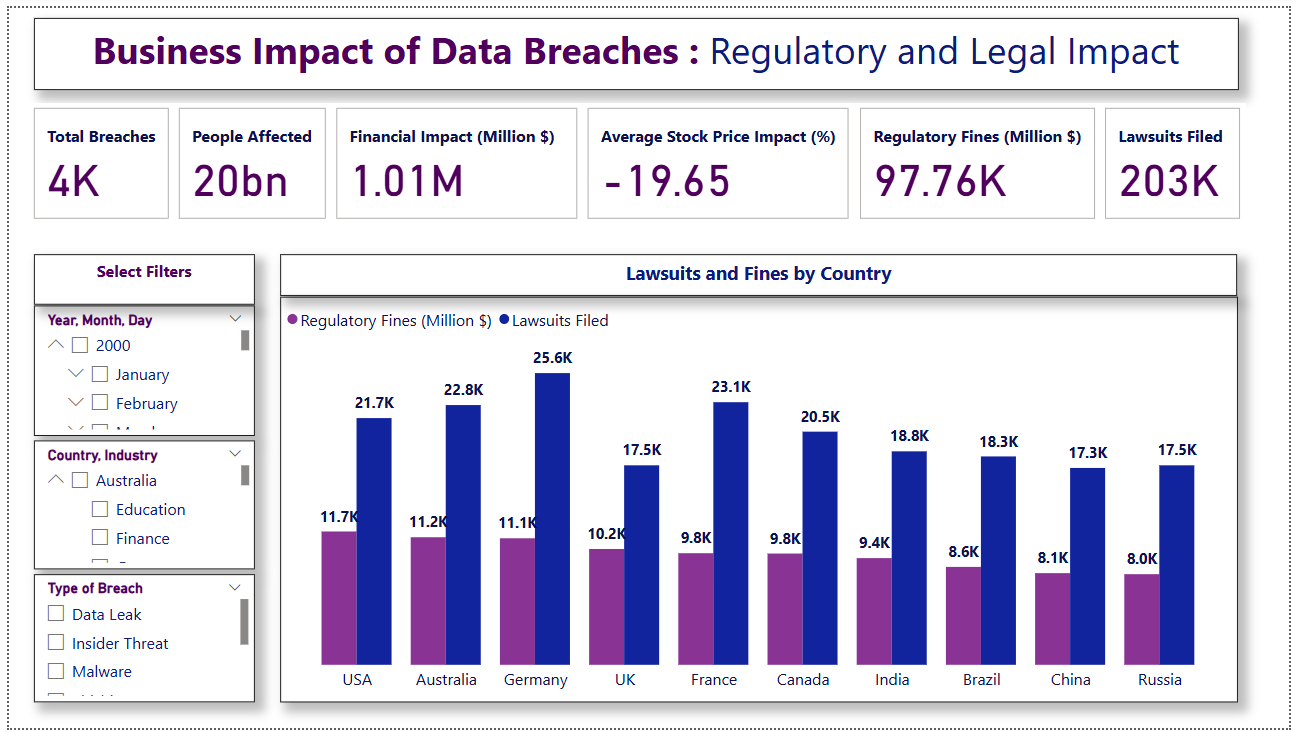

Layout of this report page (visuals, bound fields, positions):
{"tool":"powerbi","page":{"name":"Regulatory & Legal Impact","canvas":[1280,720],"ordinal":3},"visuals":[{"type":"group","id":"g1","title":"Group 1","box":[271.5,245.8,957.5,447.6],"z":0},{"type":"textbox","box":[271.6,245.8,956.9,41.9],"z":0,"group":"g1"},{"type":"group","id":"g2","title":"Group 8","box":[24.5,296.6,221.1,396.7],"z":0,"group":"g3"},{"type":"group","id":"g3","title":"Group 9","box":[24.5,245.8,220.1,447.6],"z":1000},{"type":"textbox","box":[24.5,245.8,220.6,50.8],"z":1000,"group":"g3"},{"type":"textbox","box":[24.5,9.8,1204.5,72.1],"z":2000},{"type":"clusteredColumnChart","fields":{"Y":["Sum(Sheet1.Regulatory Fines (Million $))","Sum(Sheet1.Lawsuits Filed)"],"Category":["Sheet1.Country"]},"box":[271.5,287.9,957.5,405.4],"z":2000,"group":"g1"},{"type":"group","id":"g4","title":"Group 7","box":[20.6,95.5,1216.7,122],"z":3000},{"type":"slicer","fields":{"Values":["Sheet1.Date of Breach.Variation.Date Hierarchy.Year","Sheet1.Date of Breach.Variation.Date Hierarchy.Month","Sheet1.Date of Breach.Variation.Date Hierarchy.Day"]},"box":[24.5,296.6,221.1,130.2],"z":3000,"group":"g2"},{"type":"slicer","fields":{"Values":["Sheet1.Country","Sheet1.Industry"]},"box":[24.5,431,220.7,128.8],"z":4000,"group":"g2"},{"type":"slicer","fields":{"Values":["Sheet1.Type of Breach"]},"box":[24.8,565.6,220.6,127.7],"z":5000,"group":"g2"},{"type":"cardVisual","fields":{"Data":["Avg(Sheet1.Stock Price Impact (%))"]},"box":[574.6,95.5,271.8,122],"z":6000,"group":"g4"},{"type":"cardVisual","fields":{"Data":["Sheet1.Total Breaches"]},"box":[20.6,95.5,145.5,122],"z":7000,"group":"g4"},{"type":"cardVisual","fields":{"Data":["Sum(Sheet1.Regulatory Fines (Million $))"]},"box":[846.4,95.5,245.4,122],"z":8000,"group":"g4"},{"type":"cardVisual","fields":{"Data":["Sum(Sheet1.Lawsuits Filed)"]},"box":[1091.8,95.5,145.5,122],"z":9000,"group":"g4"},{"type":"cardVisual","fields":{"Data":["Sum(Sheet1.People Affected)"]},"box":[166.1,95.5,157.2,122],"z":10000,"group":"g4"},{"type":"cardVisual","fields":{"Data":["Sum(Sheet1.Financial Impact (Million $))"]},"box":[323.3,95.5,251.3,122],"z":11000,"group":"g4"}]}

Visuals, with their boxes in screenshot pixels (x1, y1, x2, y2), scaled from the page's 1280x720 canvas onto the 1297x732 screenshot:
"Group 1" group: bbox=(275, 250, 1245, 705)
textbox: bbox=(275, 250, 1245, 292)
"Group 8" group: bbox=(25, 302, 249, 705)
"Group 9" group: bbox=(25, 250, 248, 705)
textbox: bbox=(25, 250, 248, 302)
textbox: bbox=(25, 10, 1245, 83)
clusteredColumnChart - Sum(Sheet1.Regulatory Fines (Million $)) x Sum(Sheet1.Lawsuits Filed): bbox=(275, 293, 1245, 705)
"Group 7" group: bbox=(21, 97, 1254, 221)
slicer - Sheet1.Date of Breach.Variation.Date Hierarchy.Year x Sheet1.Date of Breach.Variation.Date Hierarchy.Month: bbox=(25, 302, 249, 434)
slicer - Sheet1.Country x Sheet1.Industry: bbox=(25, 438, 248, 569)
slicer - Sheet1.Type of Breach: bbox=(25, 575, 249, 705)
cardVisual - Avg(Sheet1.Stock Price Impact (%)): bbox=(582, 97, 858, 221)
cardVisual - Sheet1.Total Breaches: bbox=(21, 97, 168, 221)
cardVisual - Sum(Sheet1.Regulatory Fines (Million $)): bbox=(858, 97, 1106, 221)
cardVisual - Sum(Sheet1.Lawsuits Filed): bbox=(1106, 97, 1254, 221)
cardVisual - Sum(Sheet1.People Affected): bbox=(168, 97, 328, 221)
cardVisual - Sum(Sheet1.Financial Impact (Million $)): bbox=(328, 97, 582, 221)
